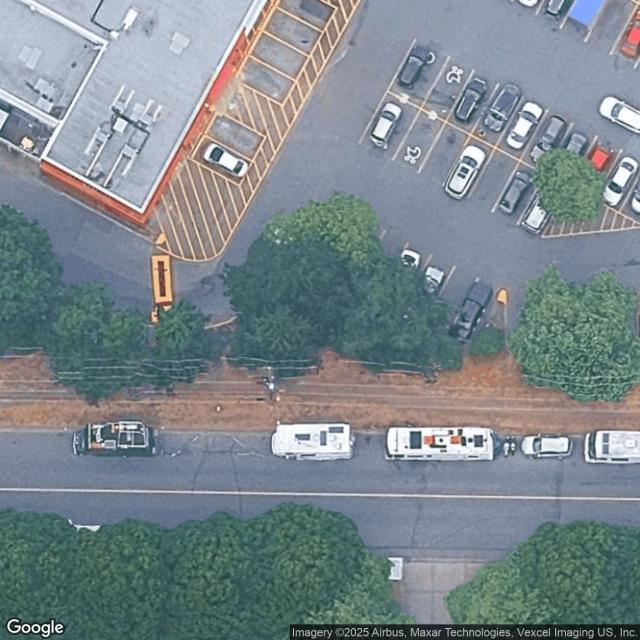car: (441, 140, 490, 205), (447, 279, 496, 344), (518, 176, 567, 241), (381, 242, 430, 306), (492, 162, 540, 227), (499, 93, 547, 158), (478, 75, 526, 140), (449, 66, 497, 131), (392, 35, 440, 100), (362, 95, 410, 160), (573, 135, 621, 200), (549, 120, 597, 185), (526, 108, 574, 172), (404, 256, 452, 320), (598, 153, 639, 210), (617, 2, 639, 62), (542, 0, 573, 18)
lot_boundary: (239, 2, 637, 354)
stall: (388, 37, 449, 109), (359, 91, 420, 159), (468, 148, 520, 213), (442, 135, 494, 200), (516, 173, 568, 238), (393, 108, 445, 173), (419, 122, 471, 187), (497, 96, 549, 161), (521, 109, 573, 174), (571, 134, 623, 199), (444, 280, 496, 345), (447, 69, 499, 134), (402, 255, 454, 320), (378, 241, 430, 306), (571, 136, 623, 200), (493, 162, 545, 226), (547, 122, 599, 186), (422, 56, 474, 120), (470, 83, 522, 147), (357, 228, 409, 292), (426, 268, 474, 332), (593, 149, 639, 213), (614, 5, 639, 66), (538, 0, 575, 22)
